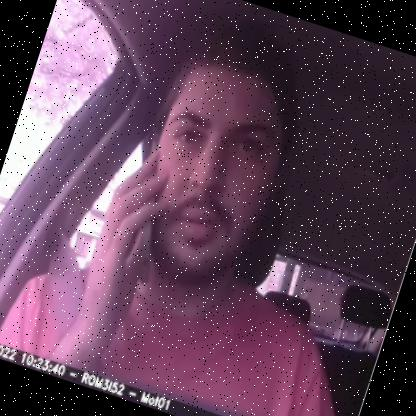phone: (86, 130, 198, 296)
